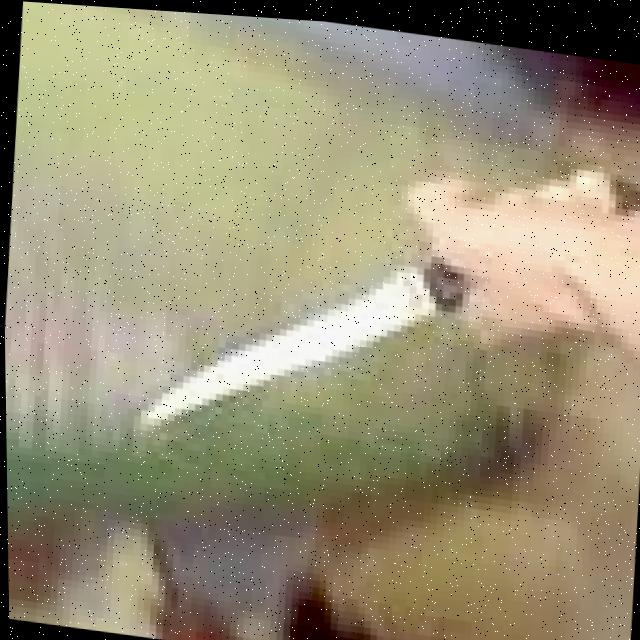knife: (130, 222, 451, 468)
